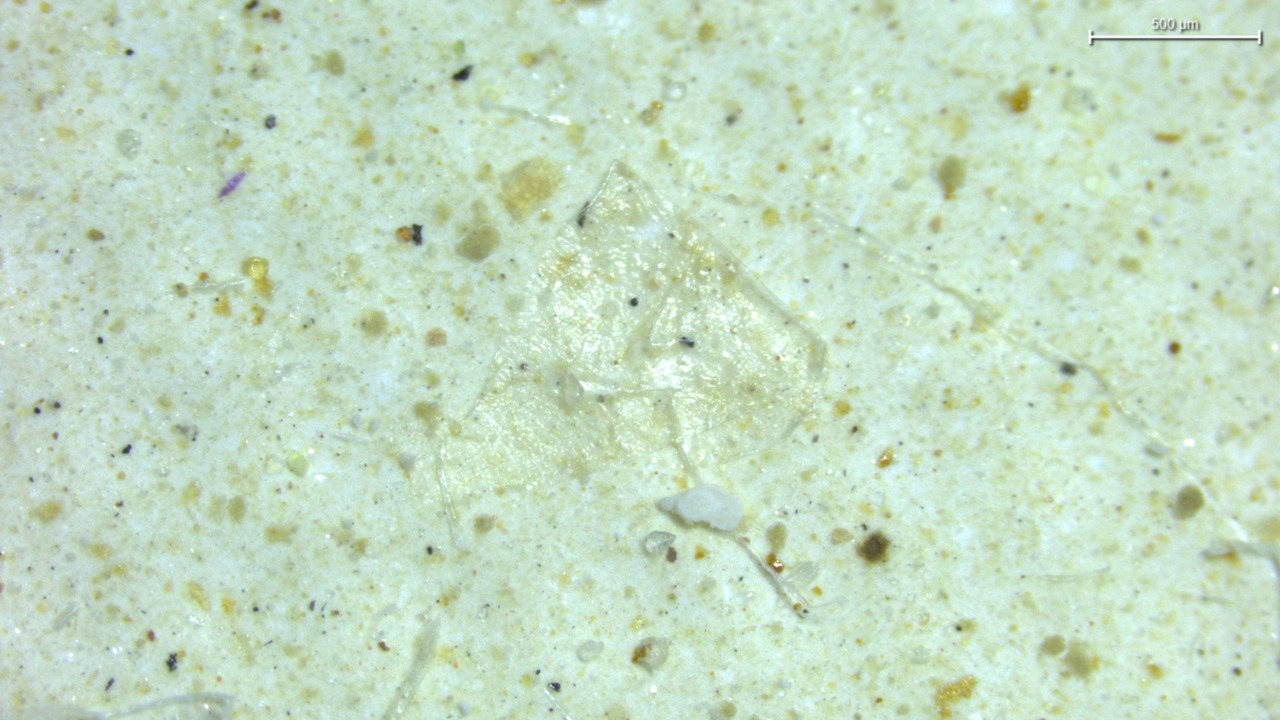microplastic_fragment: (659, 486, 743, 531)
